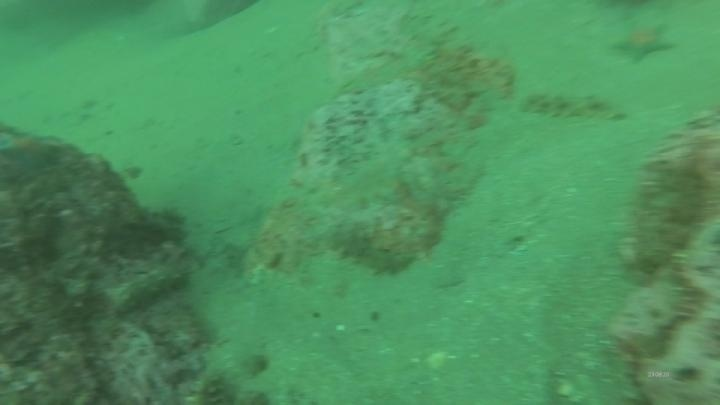holothurian: (103, 258, 192, 317), (325, 225, 419, 279), (518, 85, 628, 125)
starfish: (608, 20, 678, 67), (0, 125, 61, 177)
